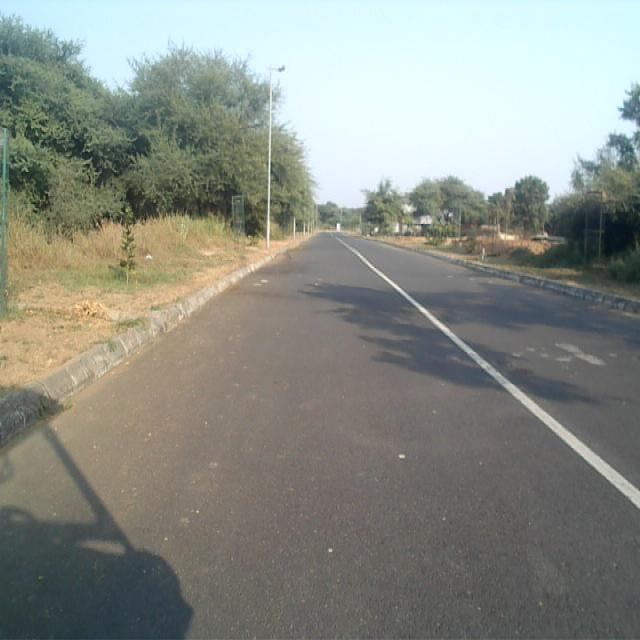lane: (0, 235, 640, 640)
